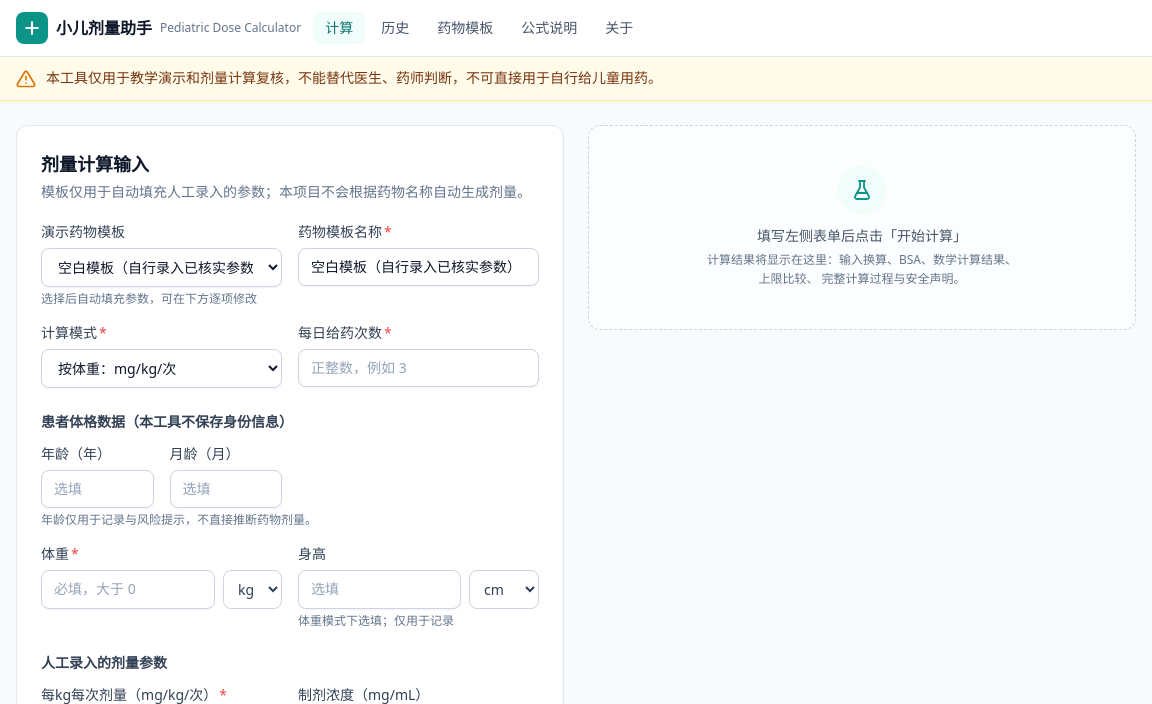
Scenario: 页面与按钮冒烟测试 › 模板页「用于计算」跳转：回到首页并自动填充模板参数
What coordinates should you click on to do the following:
click the link "药物模板"
I would click on:
 (465, 28)
Its box is [437, 18, 493, 37].
(page scrolled)
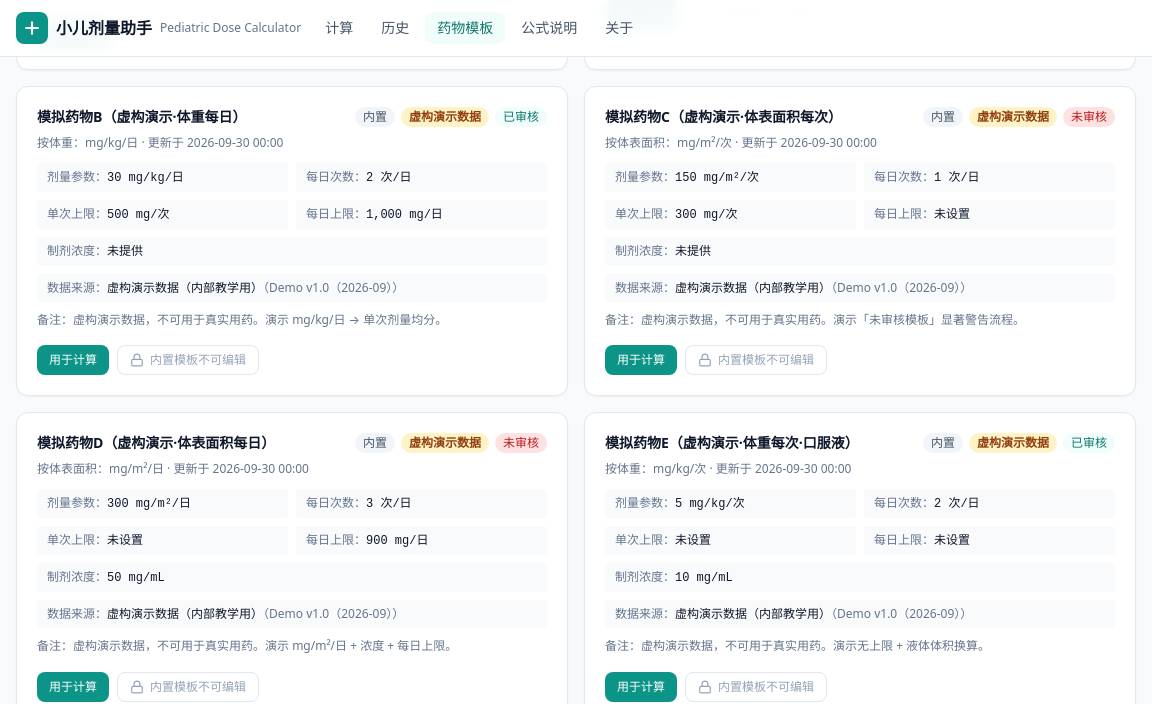
What coordinates should you click on to do the following:
click the button "用于计算" below "虚构演示数据，不可用于真实用药。演示 mg/kg/日 → 单次剂量均分。"
I would click on:
 (73, 360)
Its box is [37, 345, 109, 375].
(page scrolled)
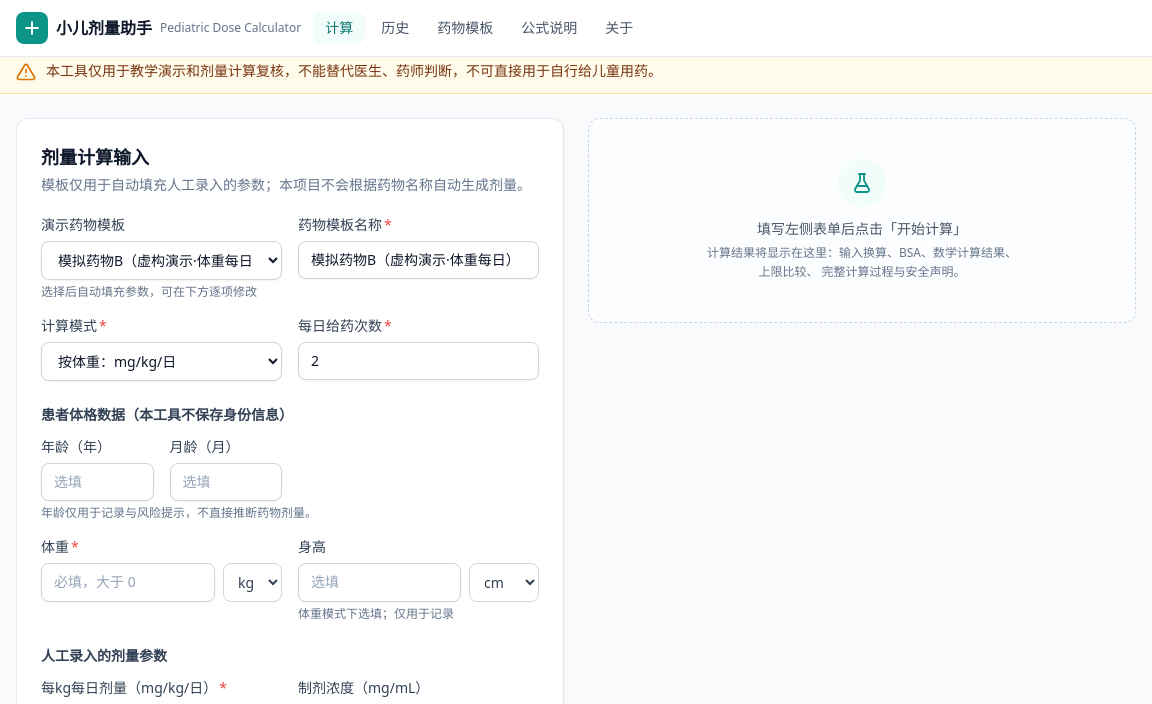
Result: the heading "剂量计算输入" is shown at [41, 145, 149, 169]
Result: the number field with id "f-times" holds "2" at [298, 342, 539, 380]
